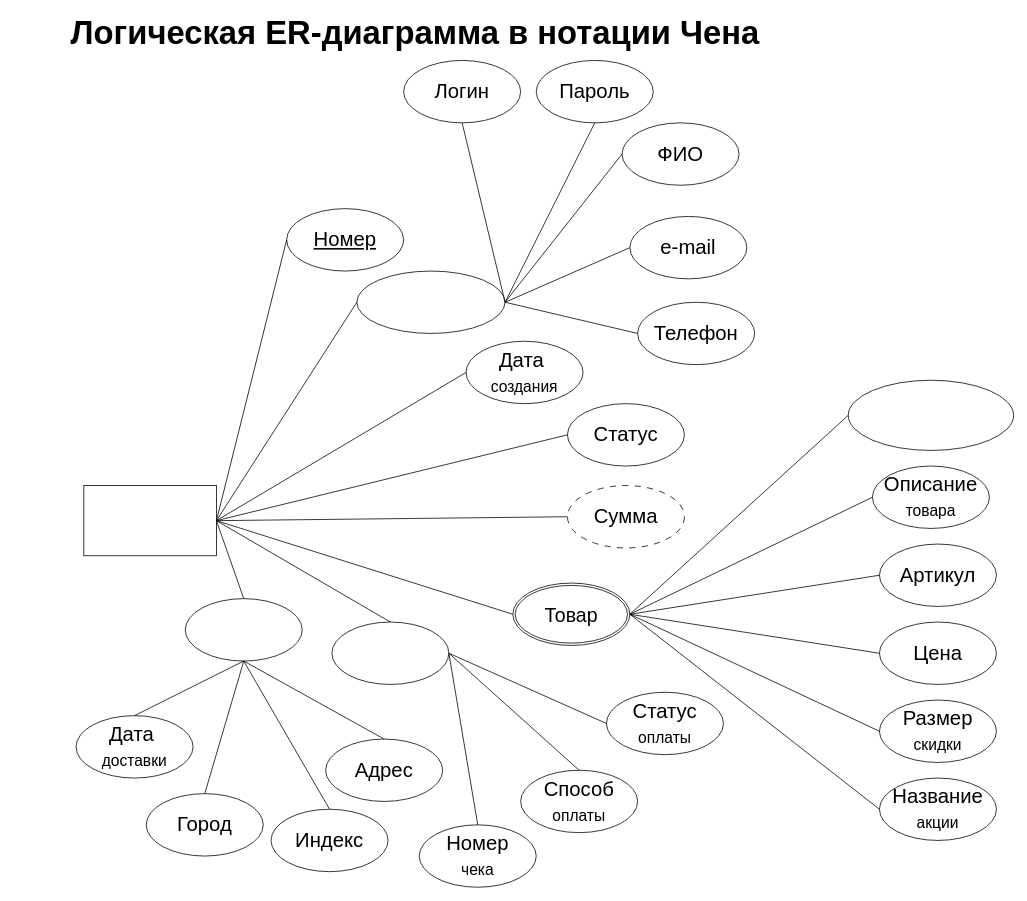
Image size: 1027x901. Some labels were removed from this diagram. The shapes that lost their labels are listed below. From the top down, each one's centre as x and y in pixels, then its label:
At (430,301): "Пользователь".
At (930,414): "Наименование товара".
At (149,520): "Заказ".
At (243,629): "Доставка".
At (390,652): "Данные об оплате".
